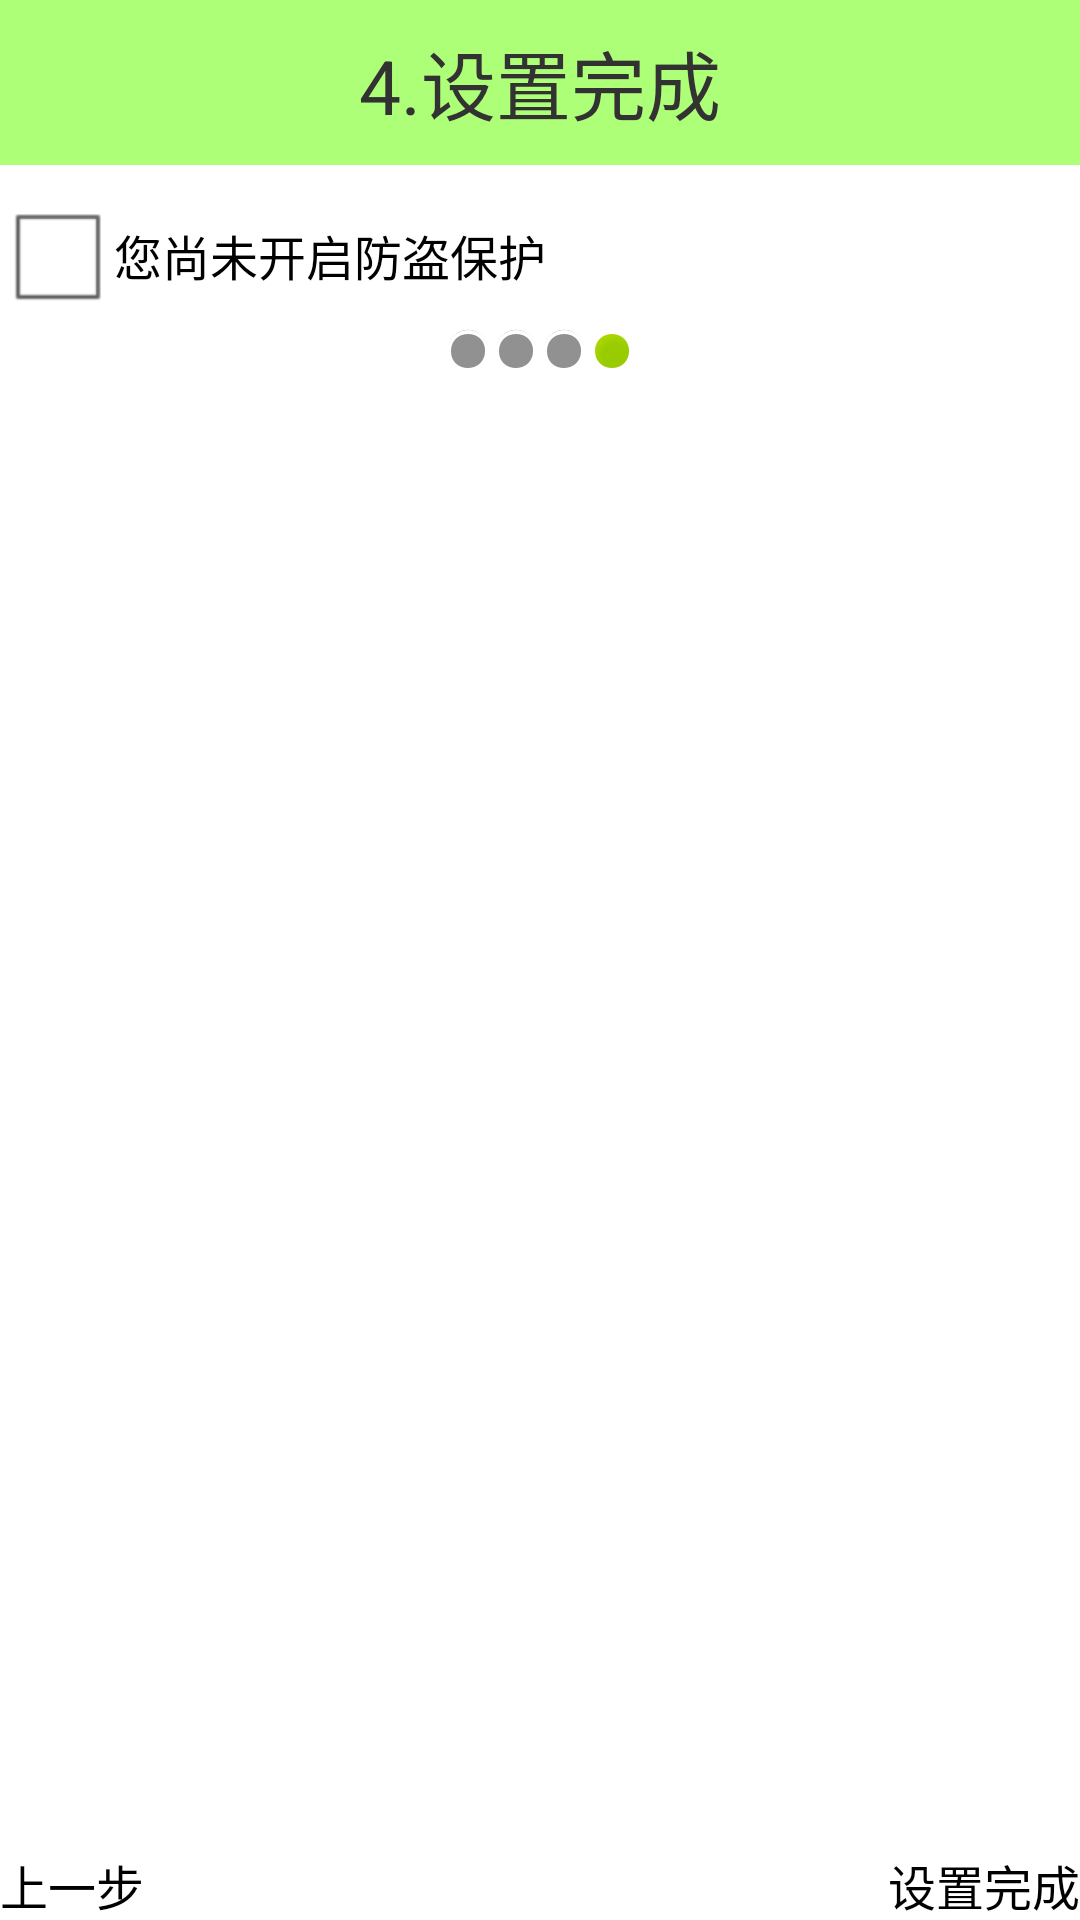

Icon click points for this 1080w x 1920h phone screenshot, format [x,y]:
presence invisible: [468,349], [516,349], [564,349]
presence online: [612,351]
